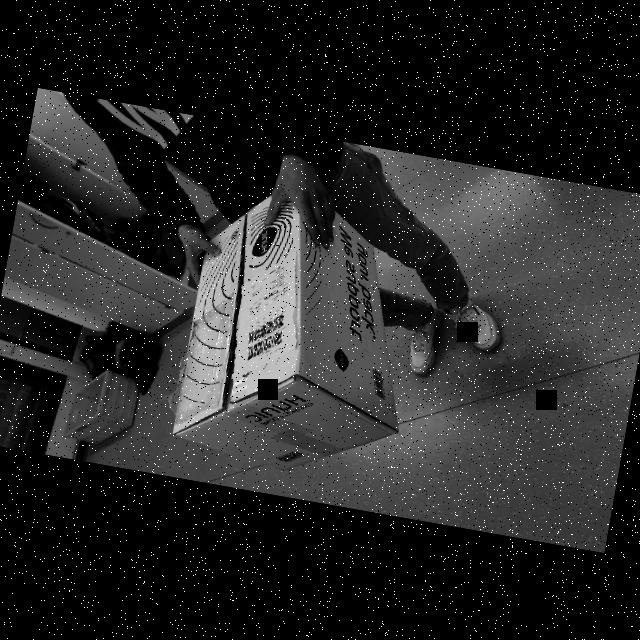cardboard_box: (154, 167, 438, 501)
